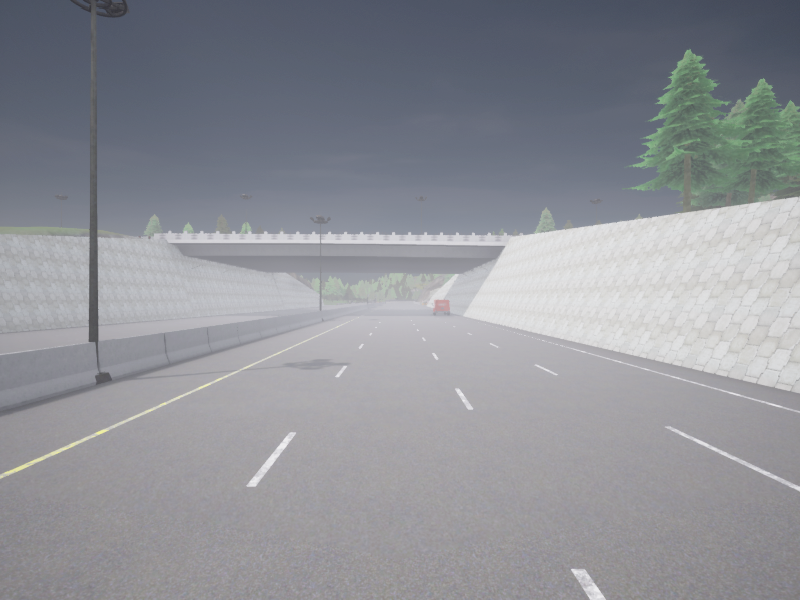vehicle: (432, 300, 450, 314)
